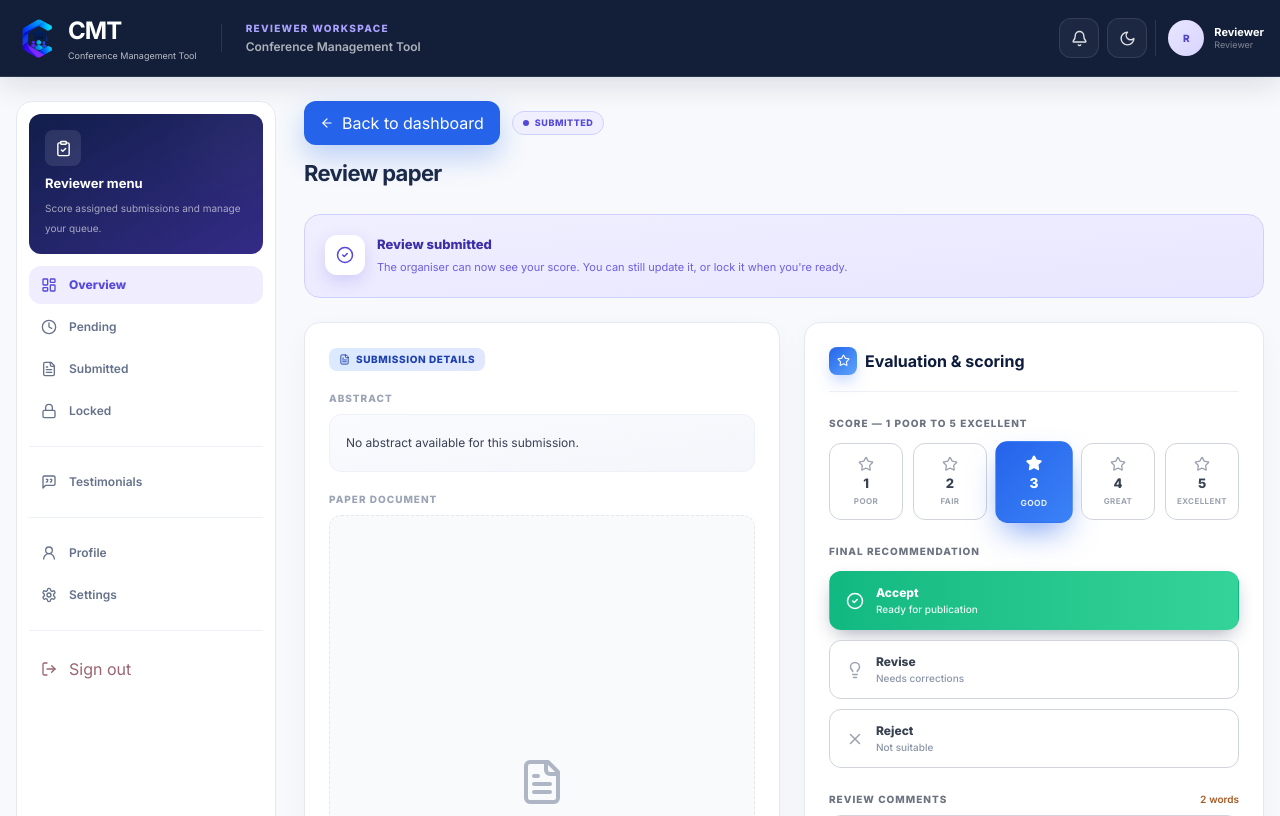
review lifecycle and account settings › permits editing submitted reviews on the agreed 1–5 scale until lock
The width and height of the screenshot is (1280, 816).
Check: the text "Score — 1 Poor to 5 Excellent" is shown, box [829,416,1028,428]
Click the button "5 Excellent": (1202, 481) [1165,442,1239,520]
(page scrolled)
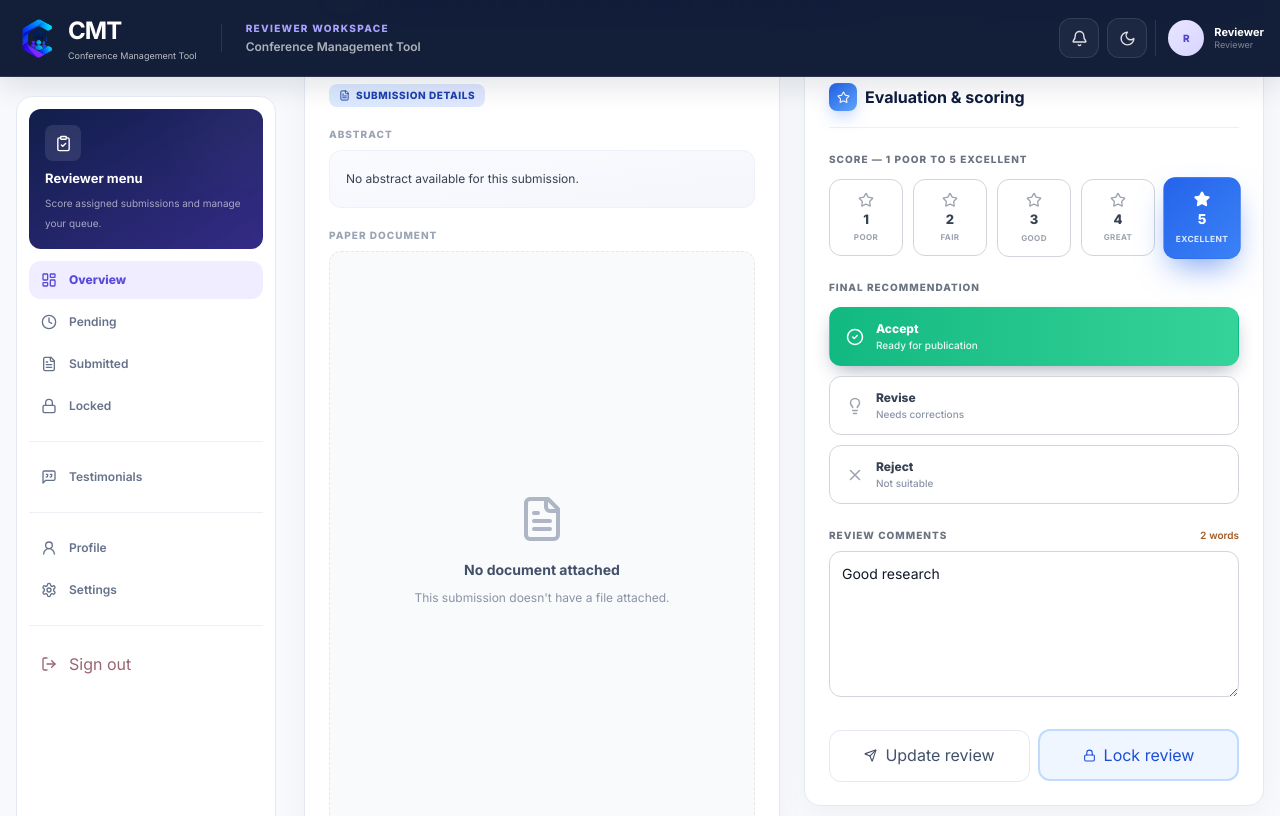
Check: the button "Lock review" is enabled, box [1038,730,1239,782]
Check: the button "Update review" is enabled, box [829,730,1030,782]
